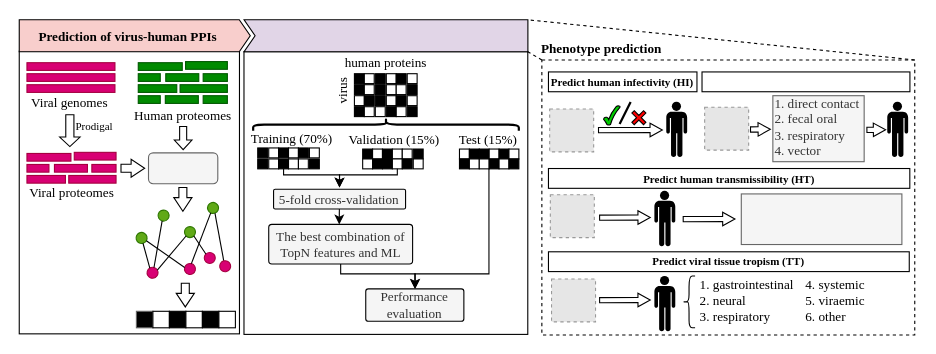
Image size: 936x354. Some labels were removed from this diagram. Grey dashed boxes stand in for pictures. The shapes that lost their labels are listed below. From the top down, each one's box as (x1, y1, x2, y2) in pixels, then its label:
(255, 21, 526, 50): Model construction and evaluation ( x 100 times)
(701, 71, 910, 92): Predict viral transmission route (TR)
(147, 152, 218, 184): vhPPIpred
(740, 193, 902, 245): 1. no human-to-human 2. limited human-to-human 3. sustained human-to-human
